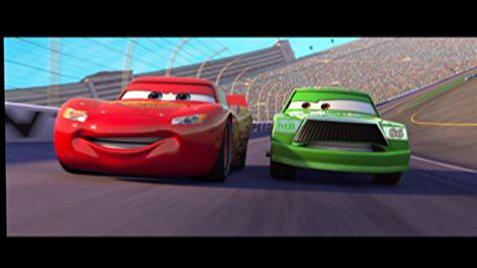car: (47, 69, 265, 199), (265, 73, 413, 203)
